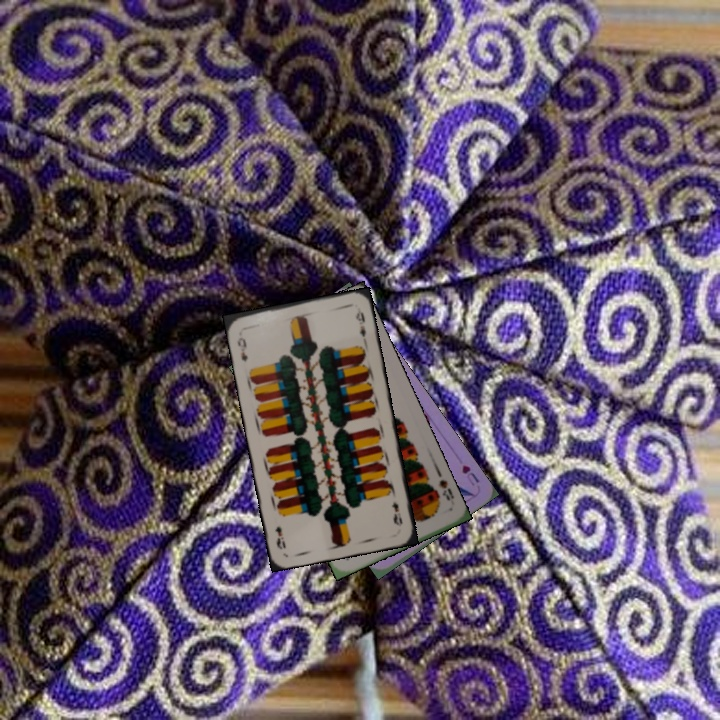E9: (233, 333, 250, 365), (388, 498, 405, 529)
HU: (458, 461, 482, 489)
S8: (434, 475, 457, 503)
